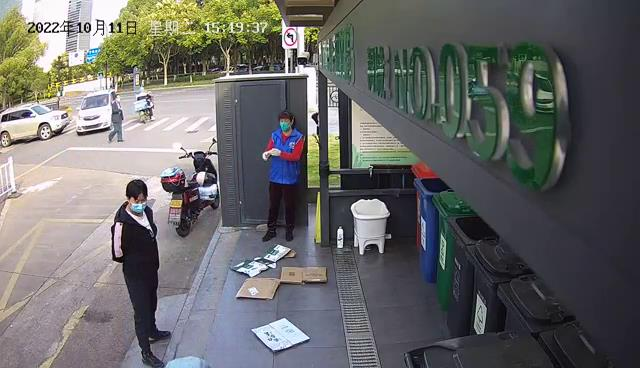person: (109, 179, 171, 368)
worker: (260, 110, 306, 242)
zhizhipin: (229, 243, 297, 278), (250, 316, 311, 352), (234, 277, 282, 301), (280, 265, 328, 285)
